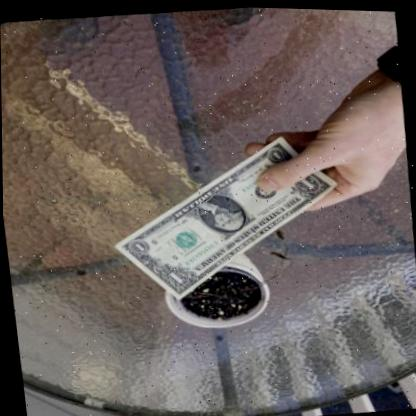one-front: (113, 132, 338, 297)
